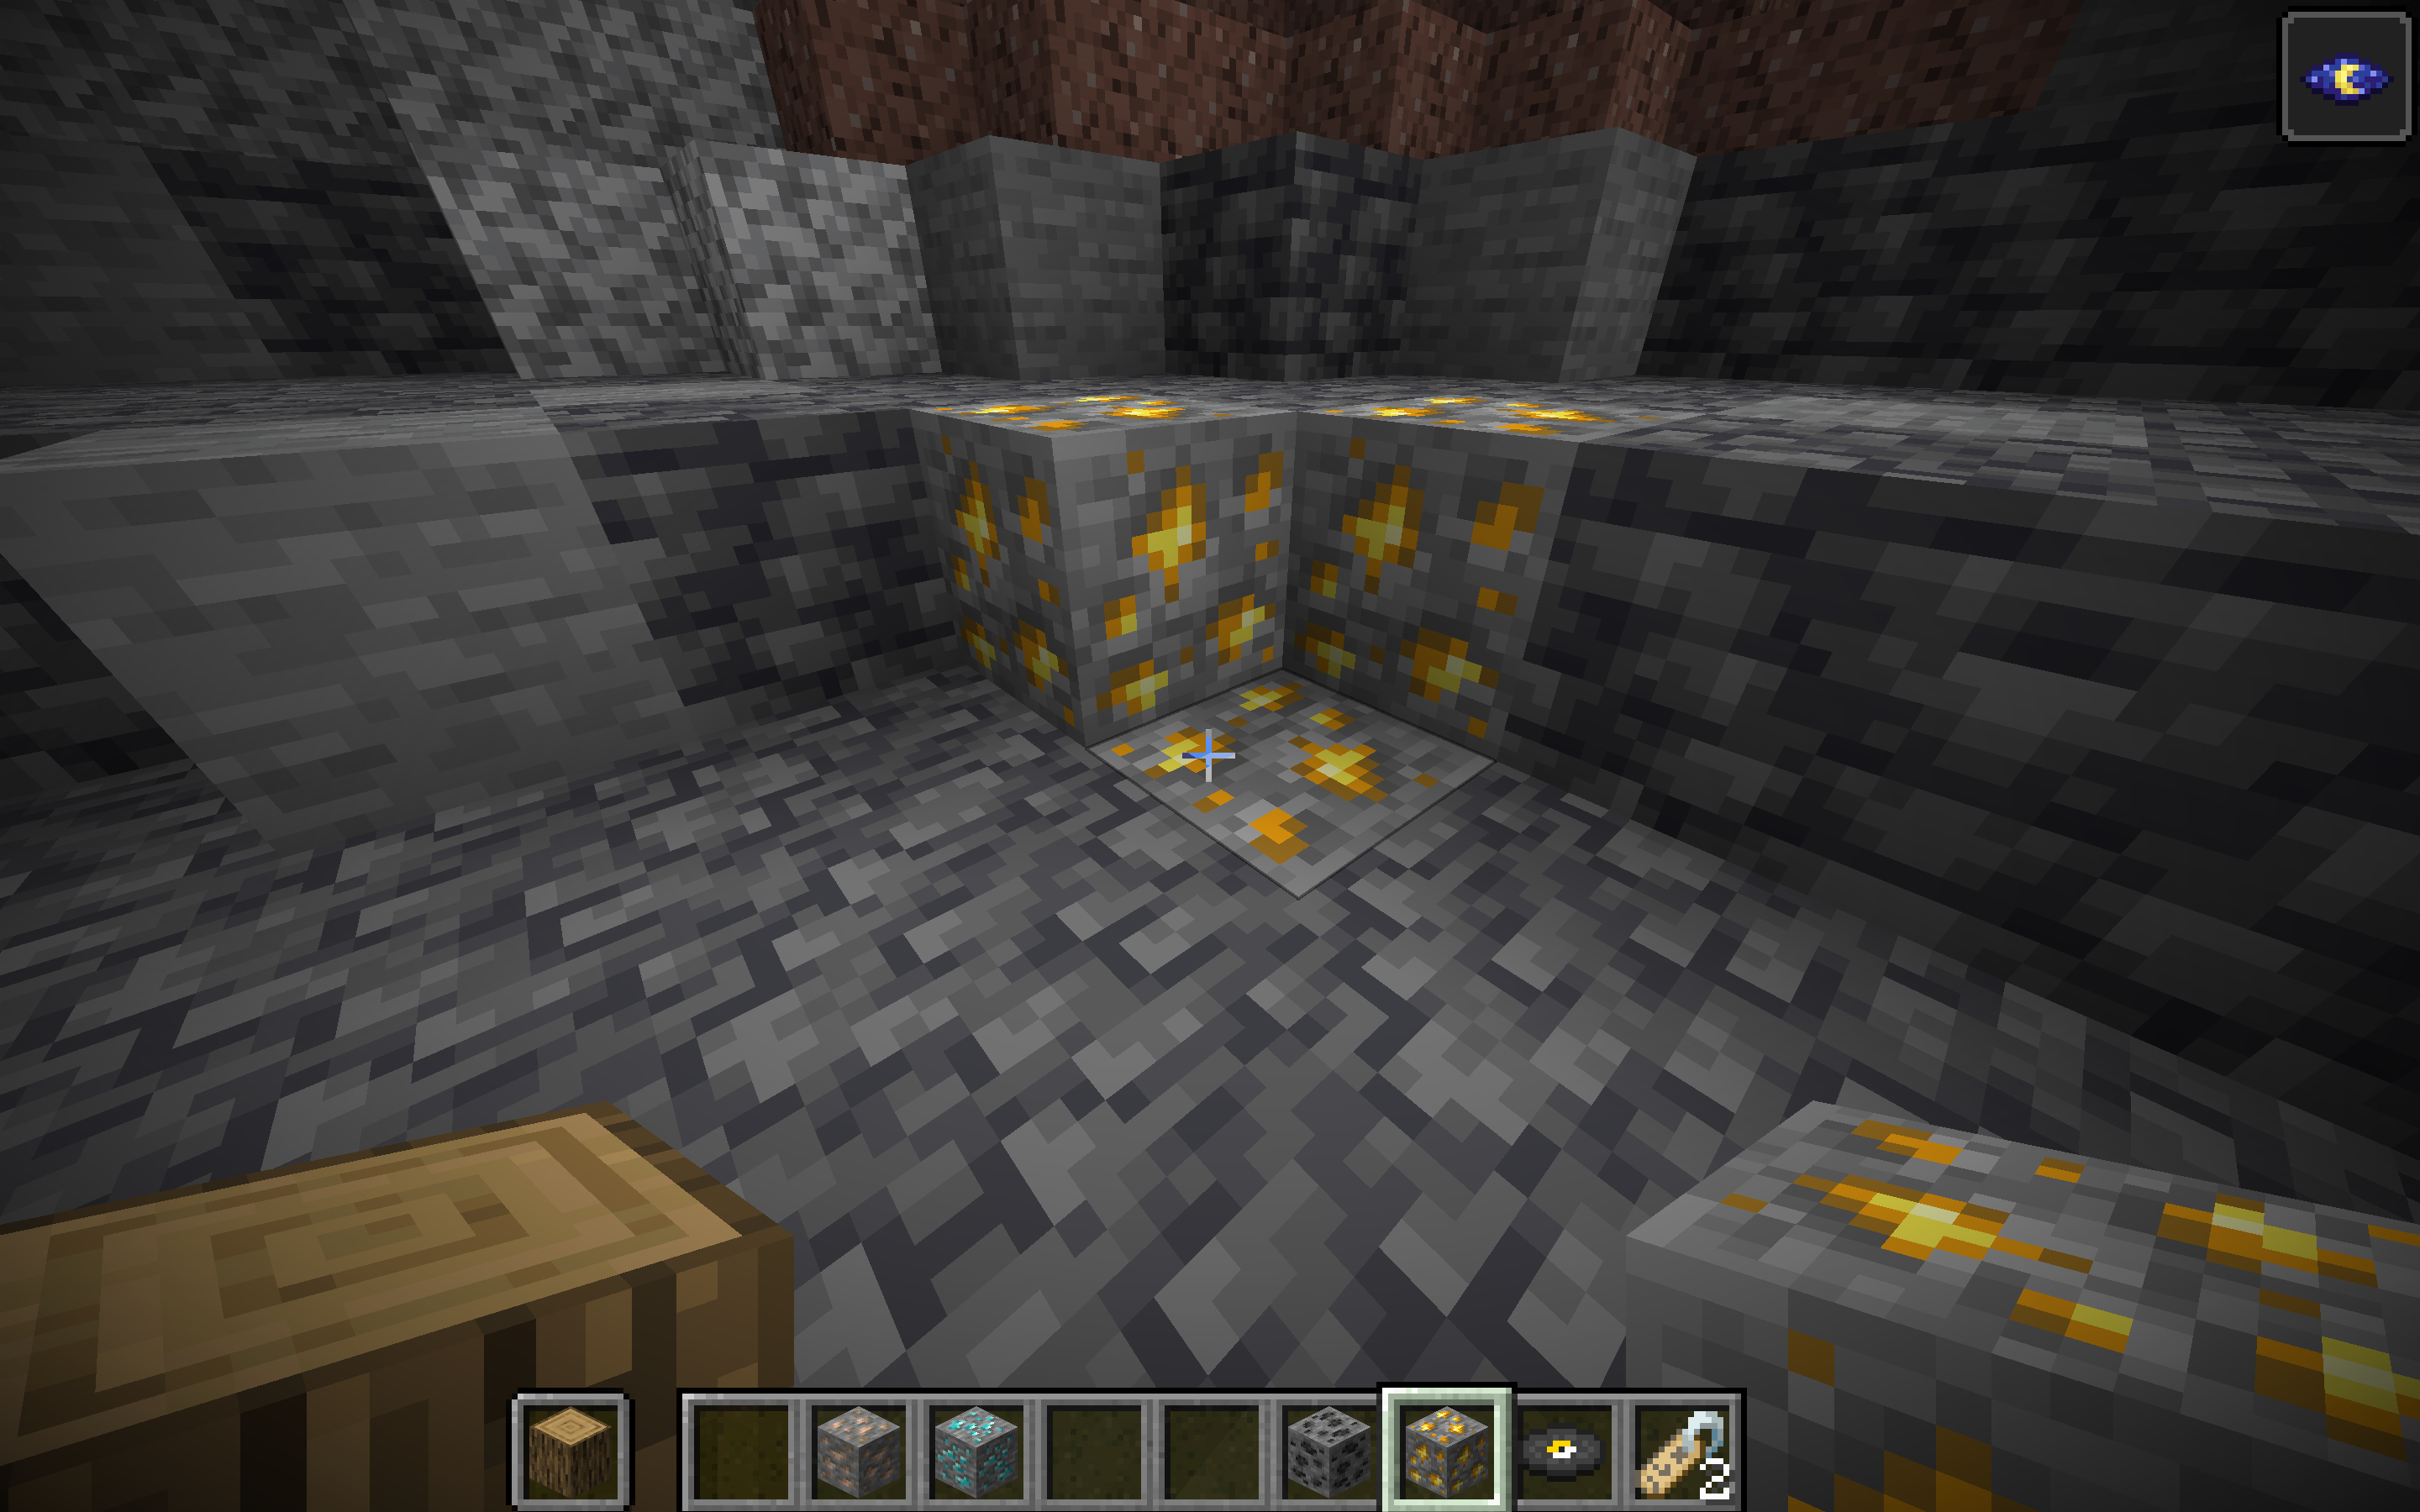gold: (692, 253, 1829, 1090)
